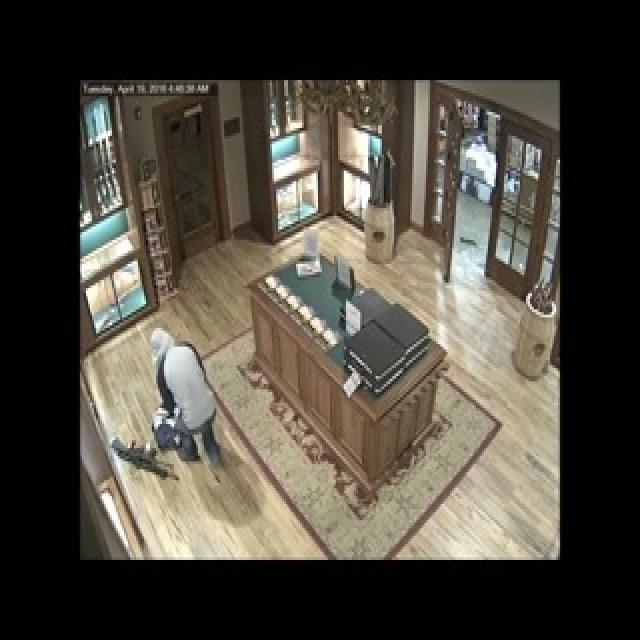thief: (145, 323, 223, 456)
